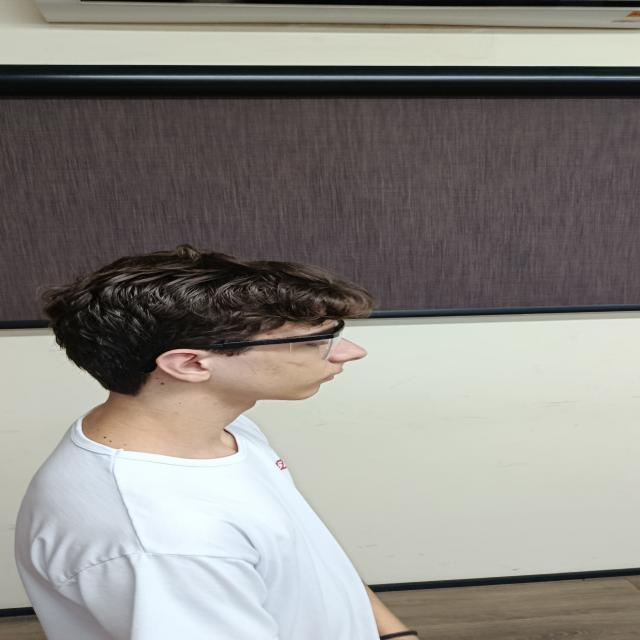oculos-epi: (199, 322, 343, 359)
